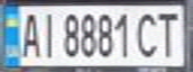1: (112, 9, 133, 58)
8: (57, 9, 81, 58), (96, 9, 115, 58), (78, 9, 96, 58)
A: (18, 8, 42, 60)
C: (133, 8, 163, 59)
I: (36, 9, 60, 58)
T: (154, 8, 184, 57)
